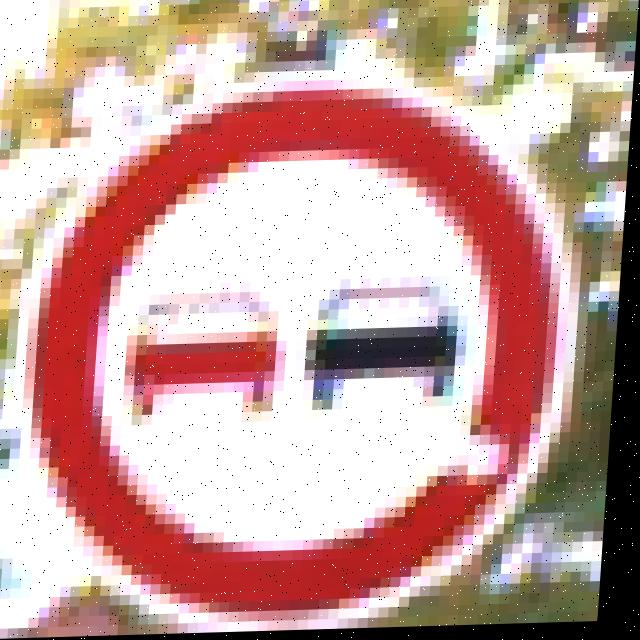no_overtaking: (60, 117, 562, 632)
